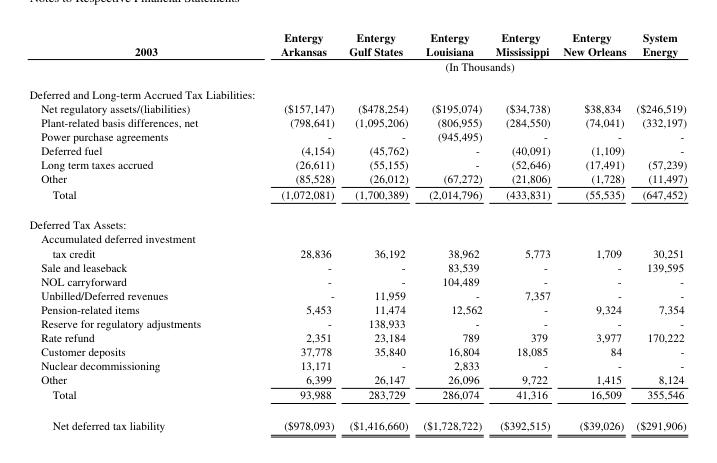table: (28, 28, 686, 431)
table column: (28, 28, 240, 431), (240, 28, 340, 431), (340, 28, 415, 431), (556, 28, 630, 431), (415, 28, 488, 431), (488, 28, 556, 431), (630, 28, 686, 431)
table column header: (28, 28, 686, 79)
table projected row header: (28, 208, 686, 231), (28, 79, 686, 100), (28, 231, 686, 245)
table row: (28, 28, 686, 58), (28, 185, 686, 208), (28, 208, 686, 231), (28, 386, 686, 409), (28, 409, 686, 431), (28, 58, 686, 79), (28, 79, 686, 100), (28, 156, 686, 171), (28, 371, 686, 386), (28, 100, 686, 114), (28, 114, 686, 128), (28, 128, 686, 142), (28, 142, 686, 156), (28, 171, 686, 185), (28, 231, 686, 245), (28, 245, 686, 259), (28, 259, 686, 273), (28, 273, 686, 287), (28, 287, 686, 301), (28, 301, 686, 315), (28, 315, 686, 329), (28, 329, 686, 343), (28, 343, 686, 357), (28, 357, 686, 371)
table spanning cell: (28, 28, 240, 79), (240, 58, 686, 79)
